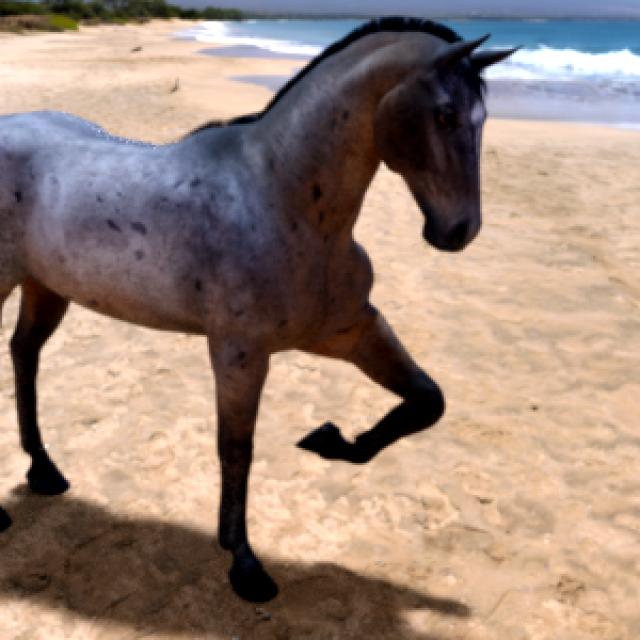horse: (0, 20, 511, 601)
